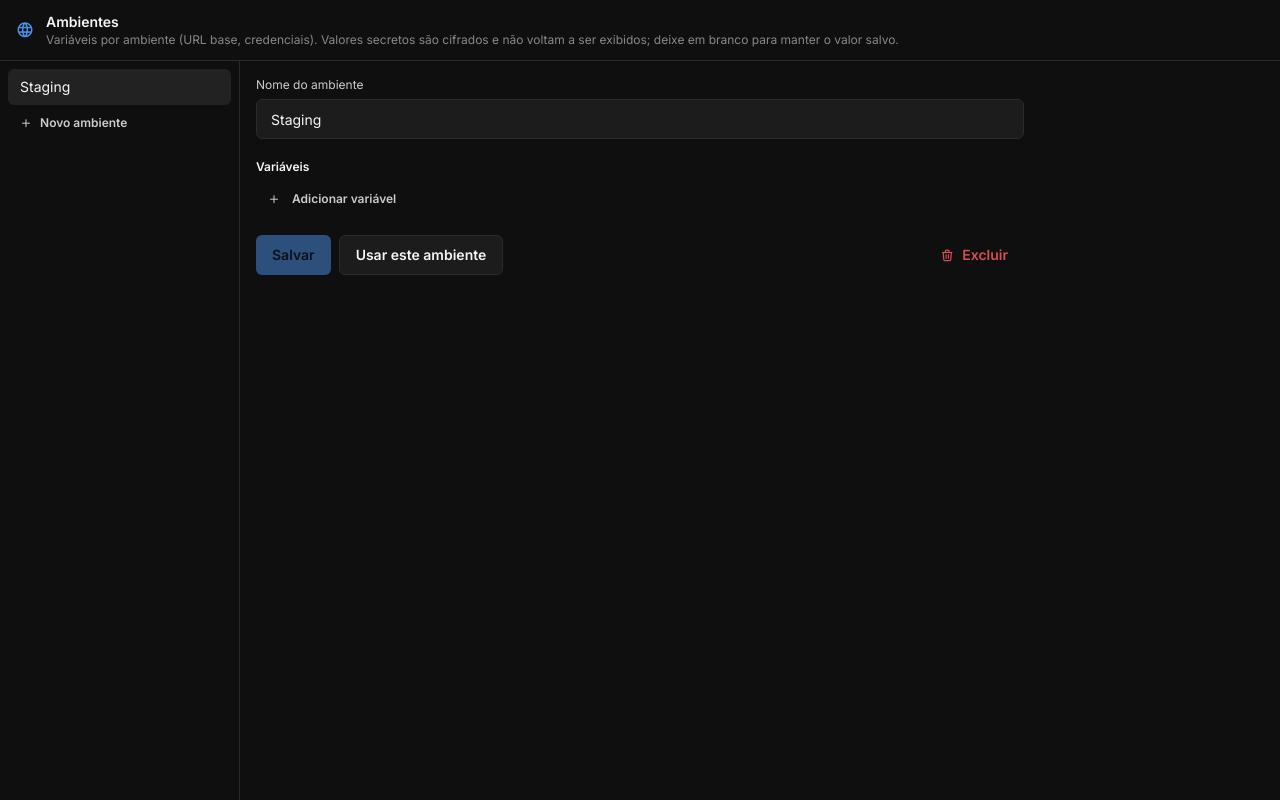
Test case: EnvironmentsPane errors › shows save errors and non-Error delete failures
Replace the text in the field with test id "environment-name" with "Prod": [640, 119] box [256,99,1024,139]
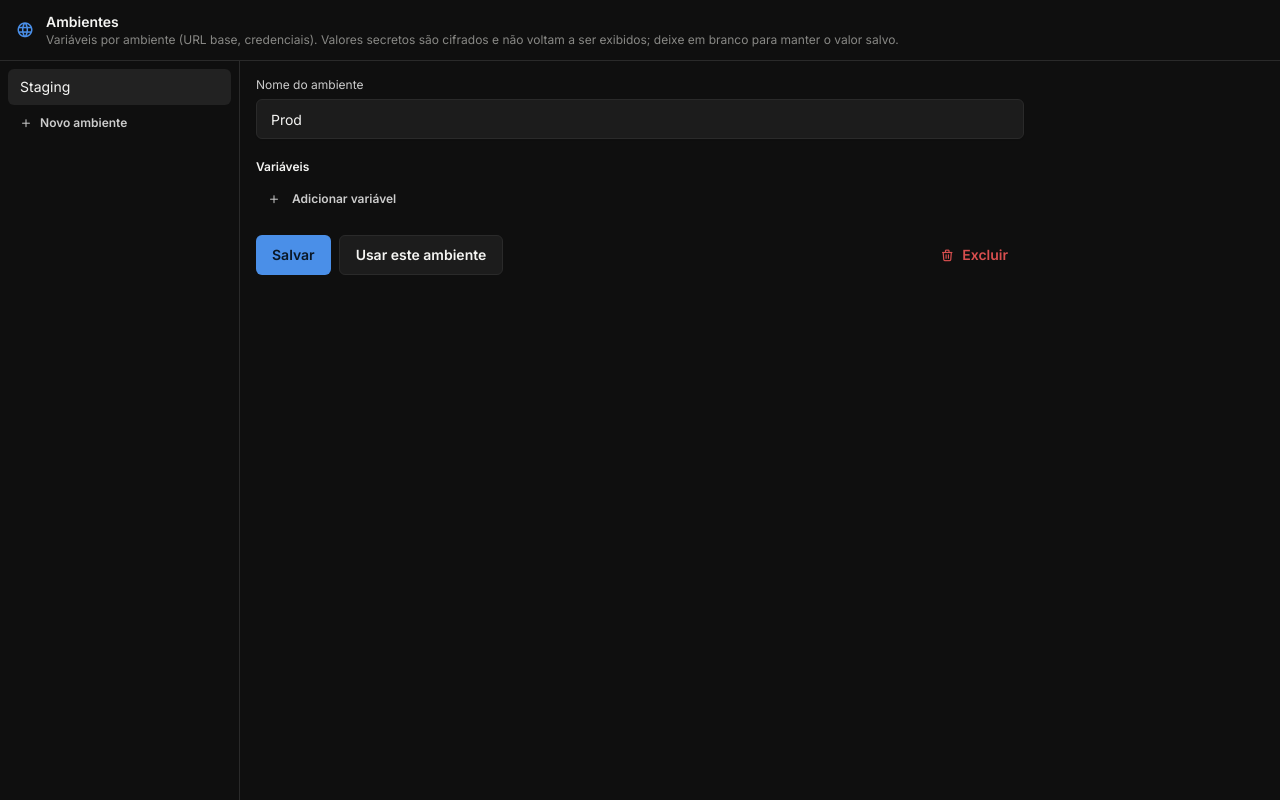
Click the button with test id "save-environment": [293, 255] box [256,235,331,275]
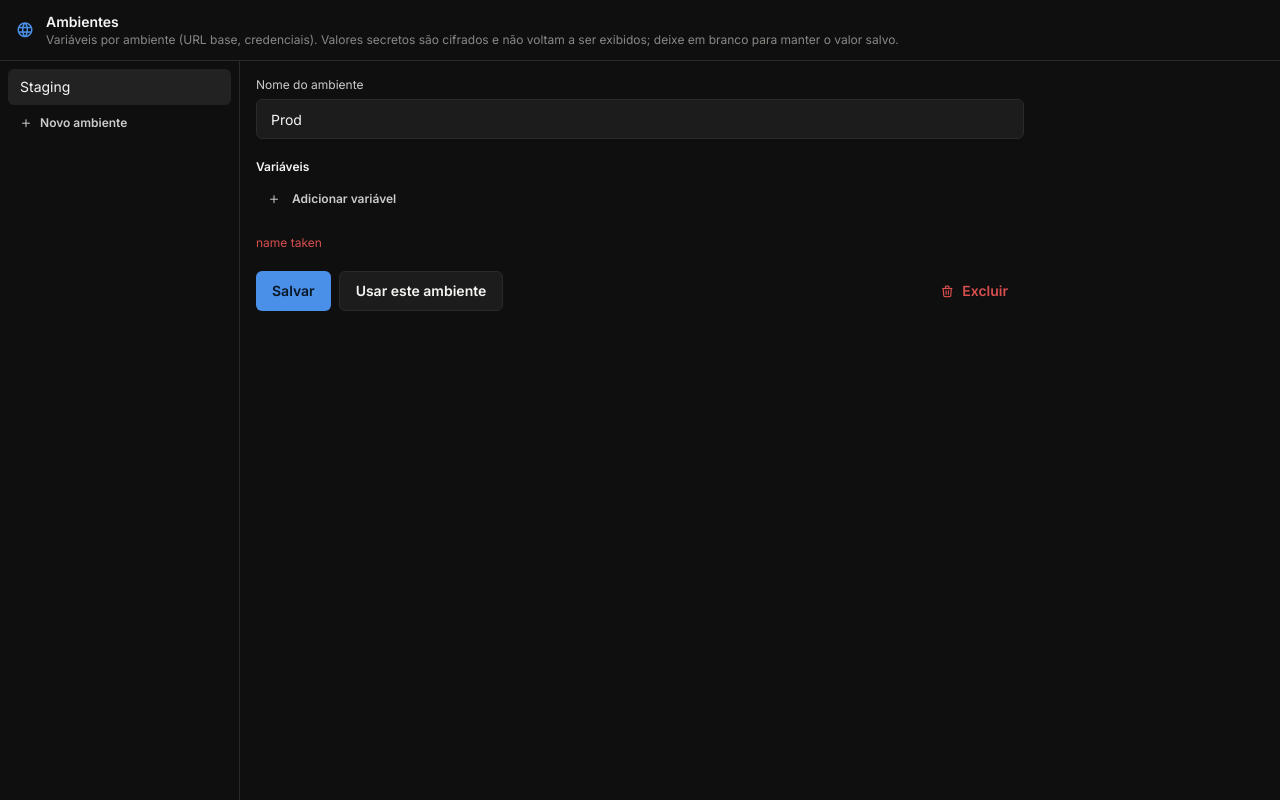
Expected: the message reads "name taken", [256,235,322,250]
Click the button "Excluir": [974, 291] box [924,271,1024,311]
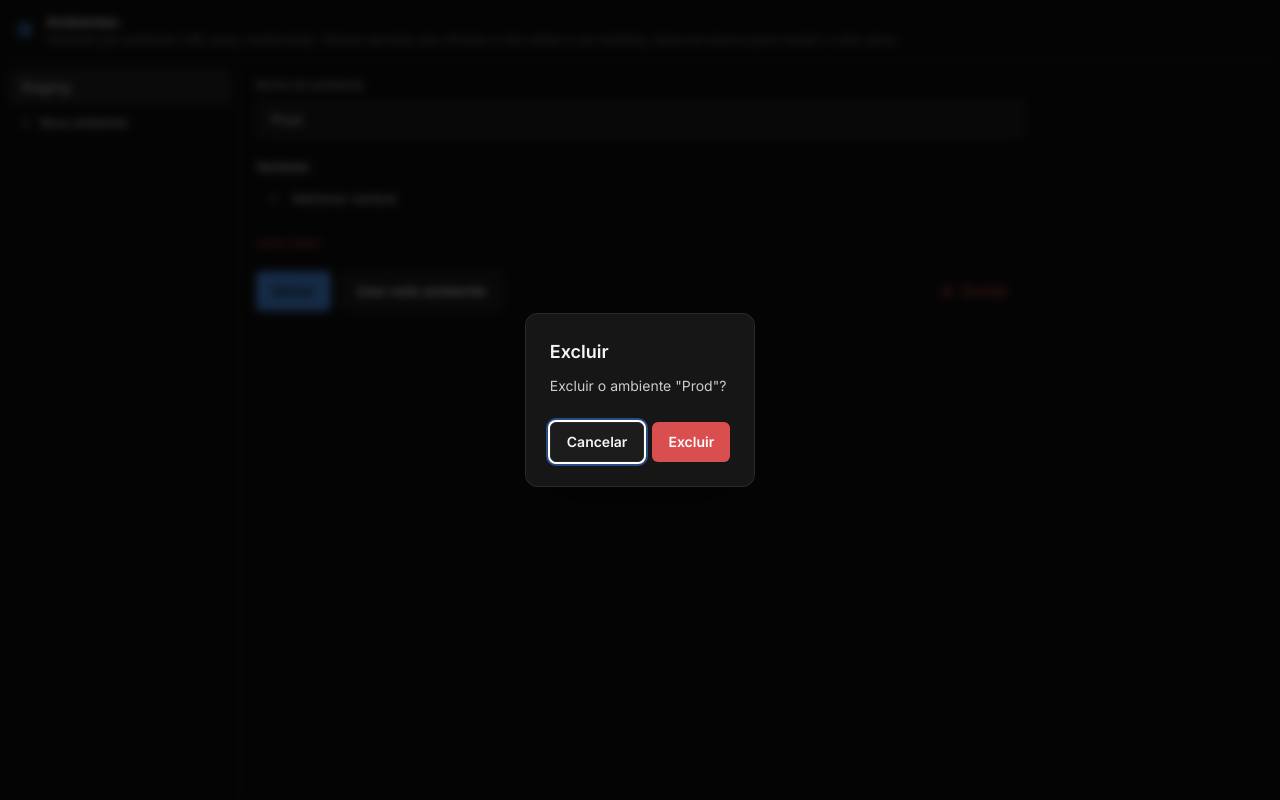
Click the button "Excluir": [691, 442] box [652,422,730,462]
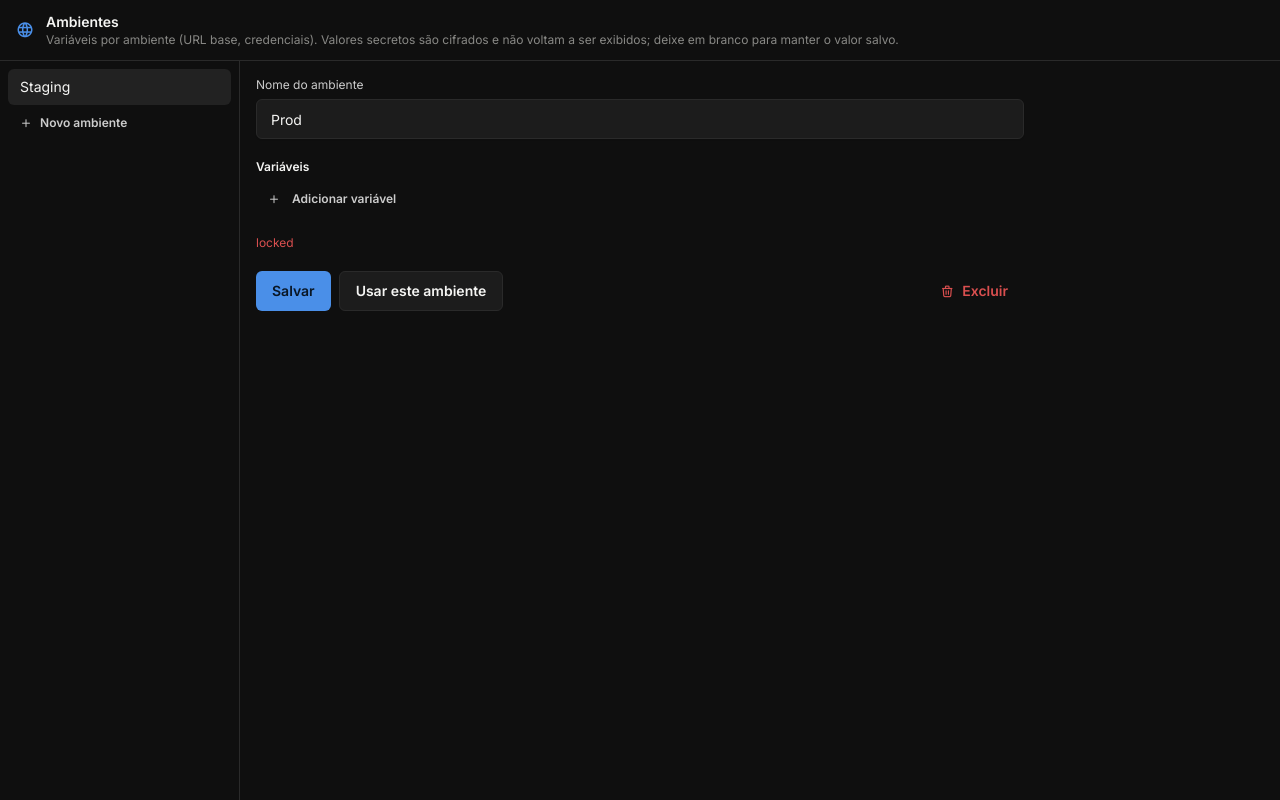
Expected: the message reads "locked", [256,235,294,250]
